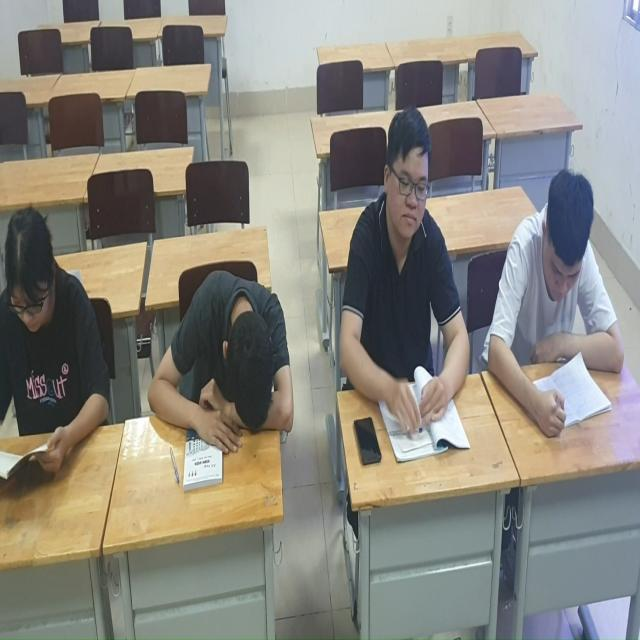sleep: (144, 271, 292, 456)
study: (341, 110, 471, 457), (491, 170, 623, 437), (0, 213, 109, 488)
